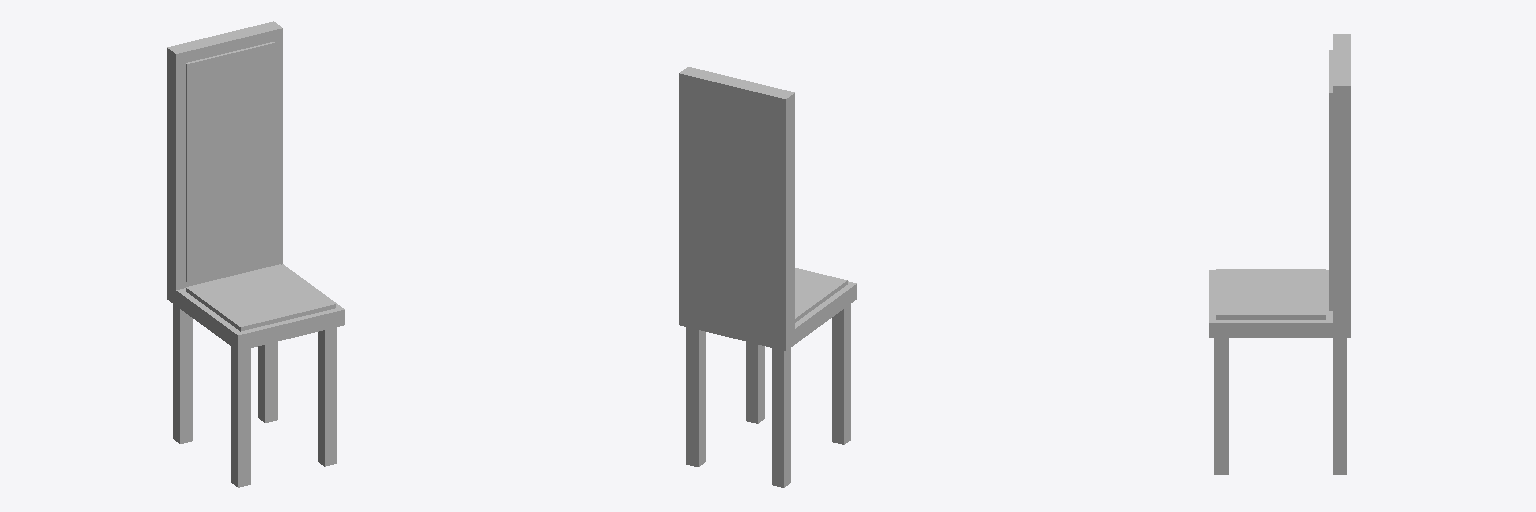
File: Chair.obj
3 renders of one model, left to right at view 1: azimuth 30°, elevation 25°; view 2: azimuth 150°, elevation 25°; view 3: azimuth 270°, elevation 25°, orthographic.
Parts seen in each view (by area): view 1: Chair; view 2: Chair; view 3: Chair.
Part boxes in pixels (x1,y1,x2,y2): Chair: (167, 21, 344, 487); Chair: (679, 67, 856, 487); Chair: (1209, 34, 1350, 474).
Bounding box in the file's own units: 1.05 × 3.67 × 1.21.